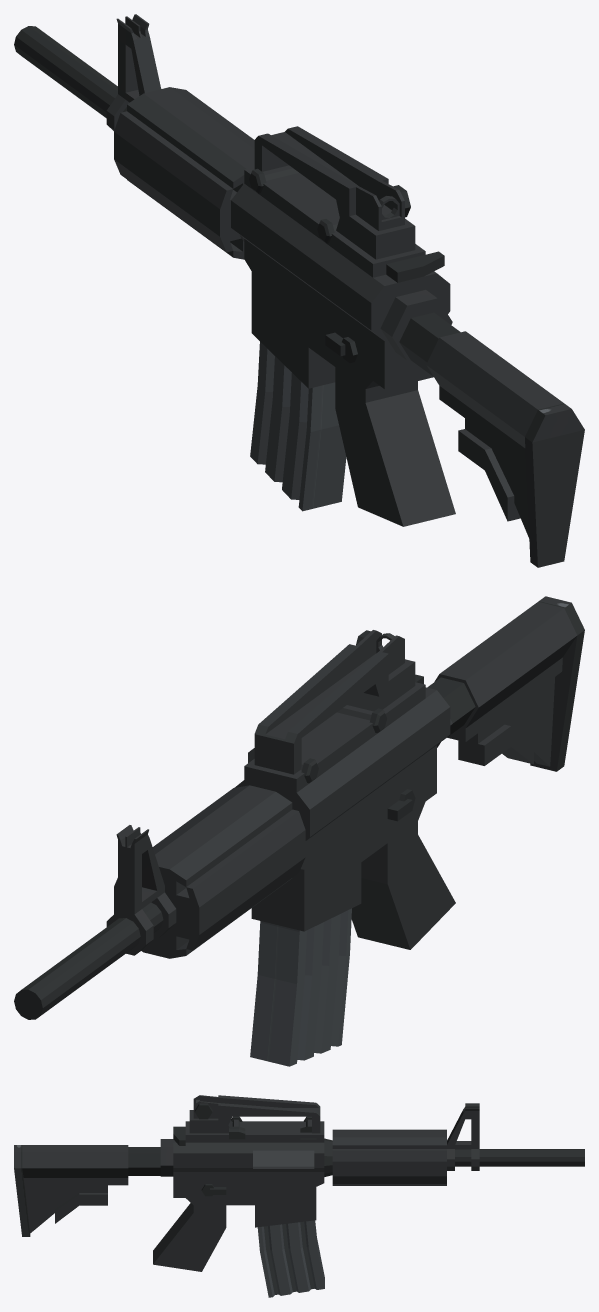
3 views of the same model, one above another, from view 1: azimuth 30°, elevation 25°; view 2: azimuth 150°, elevation 25°; view 3: azimuth 270°, elevation 25° (orthographic). The views are drawn at different scales.
Visible parts, largest first — view 1: M4A1_0, M4_Carrier_0, STANAG_30rnd; view 2: M4A1_0, M4_Carrier_0, STANAG_30rnd; view 3: M4A1_0, M4_Carrier_0, STANAG_30rnd.
Part boxes in pixels (<box>): M4A1_0: <box>14,14,584,567</box>; M4_Carrier_0: <box>249,126,415,259</box>; STANAG_30rnd: <box>250,342,346,511</box>; M4A1_0: <box>14,596,584,1019</box>; M4_Carrier_0: <box>248,630,415,783</box>; STANAG_30rnd: <box>250,908,351,1066</box>; M4A1_0: <box>14,1103,584,1271</box>; M4_Carrier_0: <box>189,1095,320,1139</box>; STANAG_30rnd: <box>257,1220,324,1297</box>.
Bounding box in the file's own units: 325 × 1311 × 3495.
